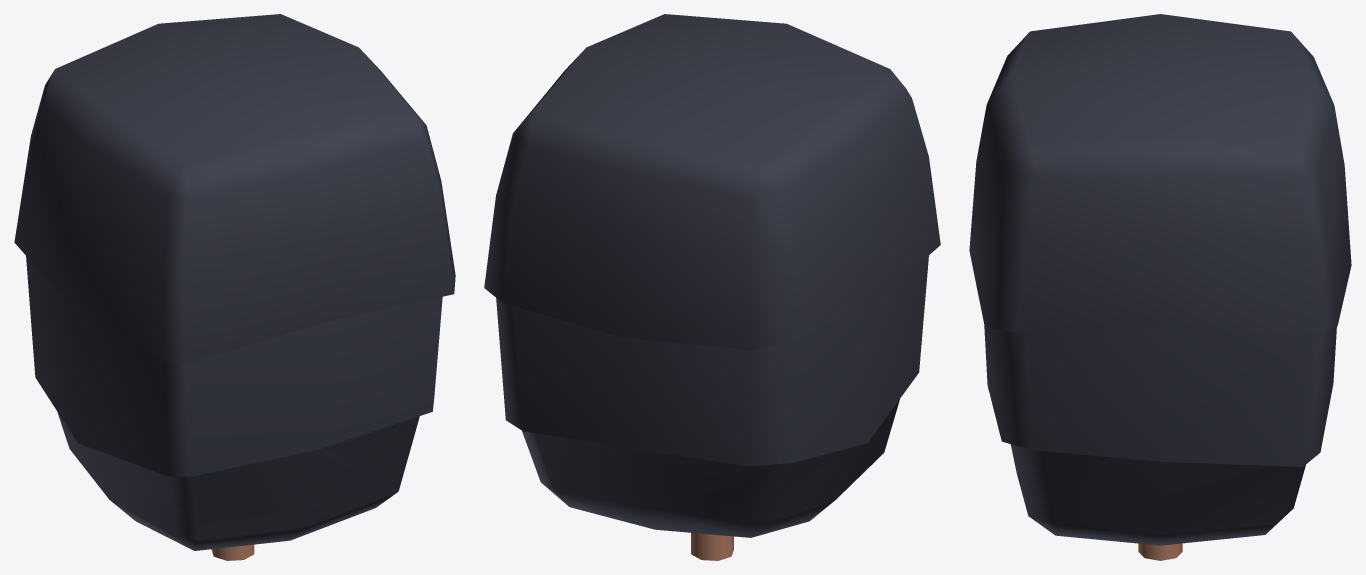
File: BushB1.fbx
3 renders of one model, left to right at view 1: azimuth 30°, elevation 25°; view 2: azimuth 150°, elevation 25°; view 3: azimuth 270°, elevation 25°, orthographic.
Visible parts, largest first — view 1: Bush_B1; view 2: Bush_B1; view 3: Bush_B1.
Boxes of the visible parts, left/top/right/bottom form: Bush_B1: left=14, top=14, right=455, bottom=560; Bush_B1: left=484, top=14, right=940, bottom=560; Bush_B1: left=969, top=14, right=1351, bottom=560.
Size of the model in its own units: 55.47 by 73.65 by 52.82.
